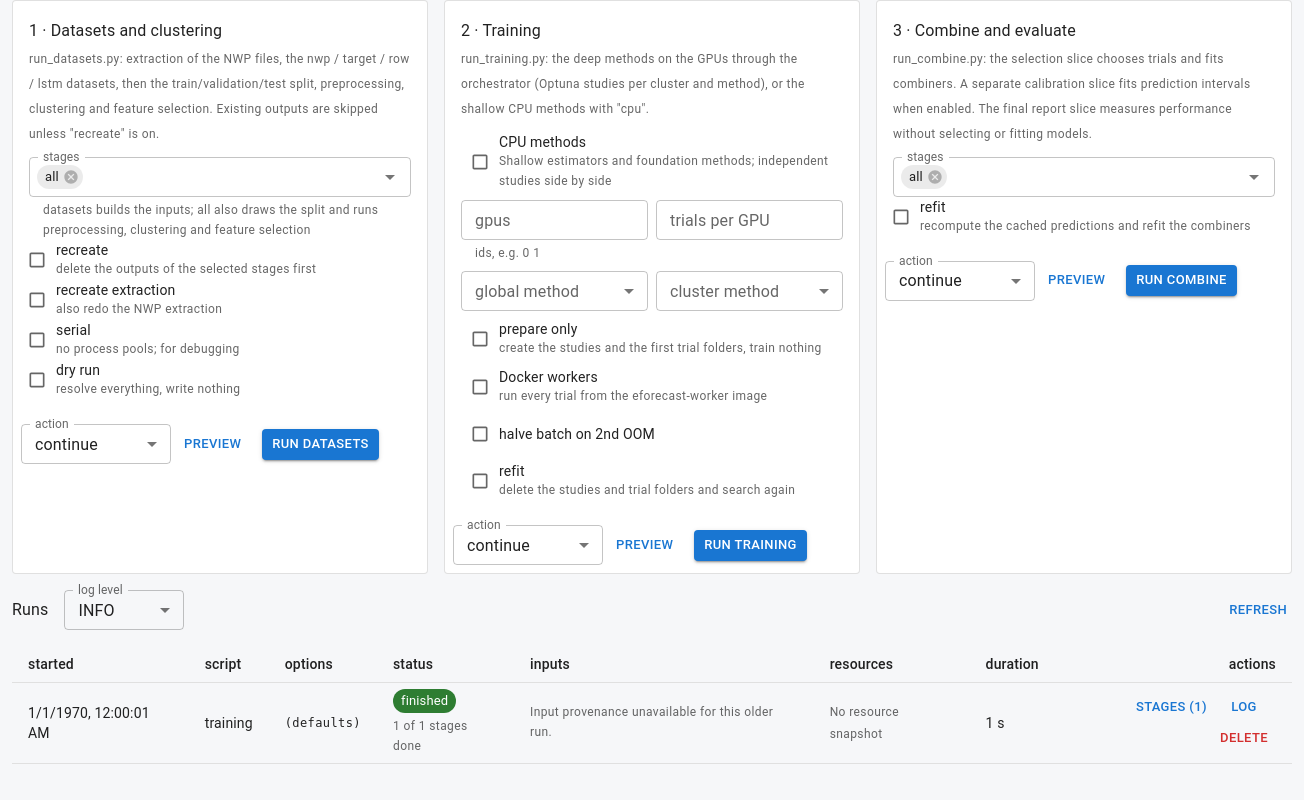
it: run actions and failures › opens and hides the stages of a run, and asks the server for nothing else about it
Click the button "Stages (1)" at (1172, 708), box x1=1131 y1=692 x2=1212 y2=723
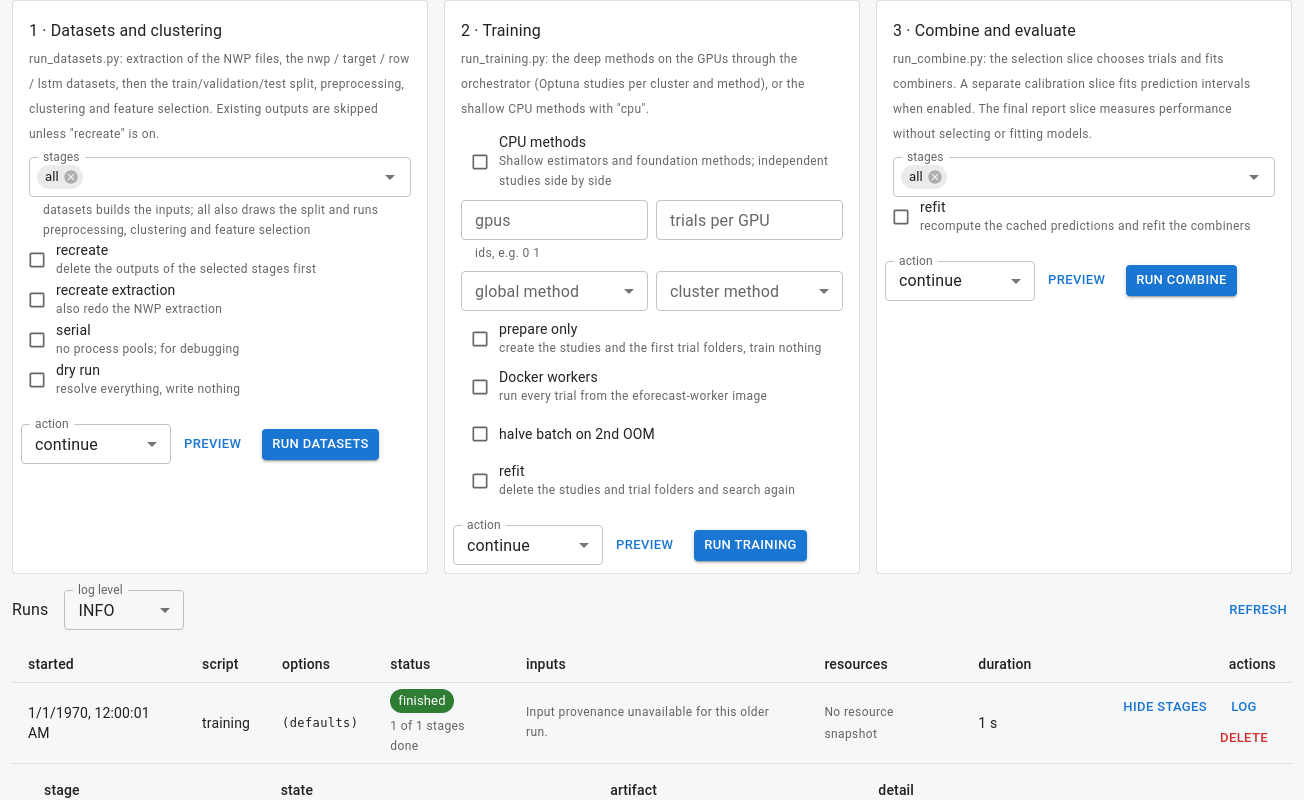
Click the button "Hide stages" at (1165, 708), box x1=1118 y1=692 x2=1212 y2=723
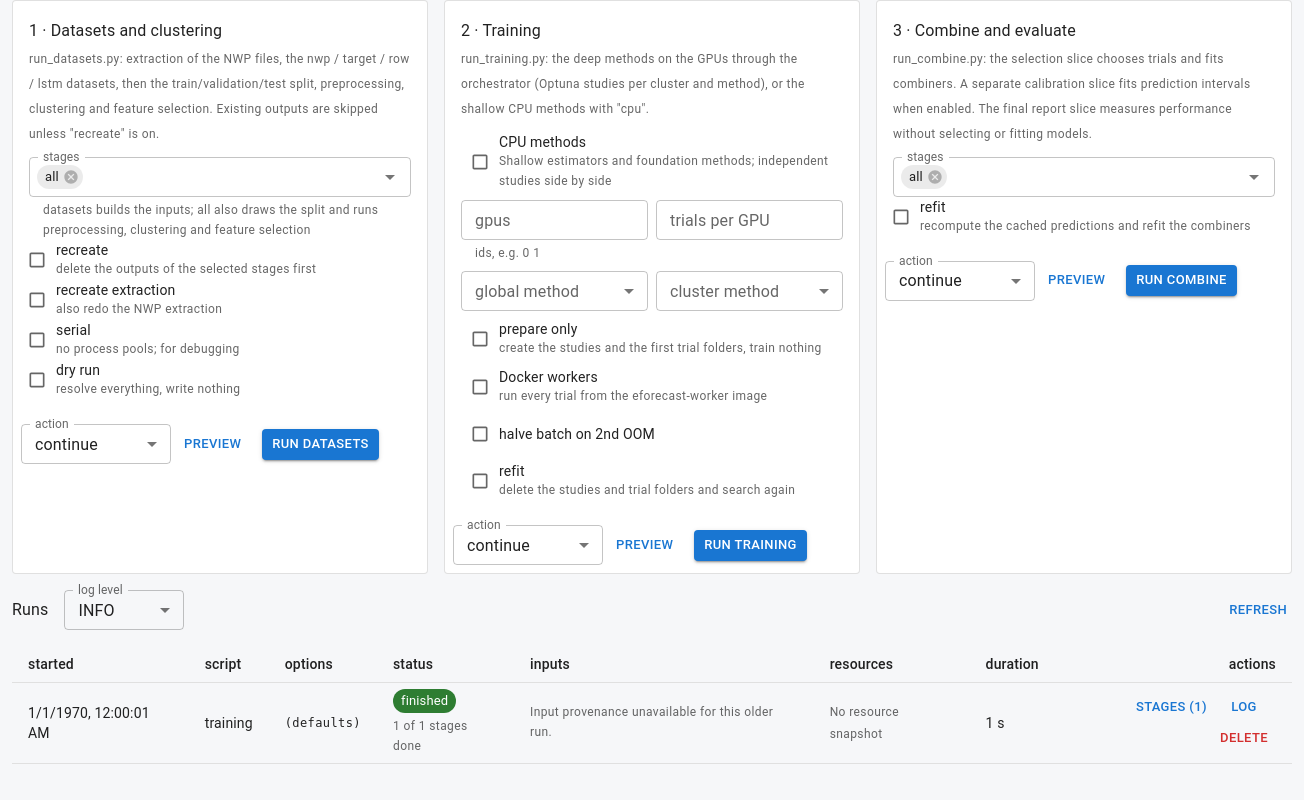
Expected: the buttons read "Stages (1)", "Log", "Delete", in this order, x1=1131 y1=692 x2=1212 y2=723; x1=1212 y1=692 x2=1276 y2=723; x1=1212 y1=723 x2=1276 y2=754
